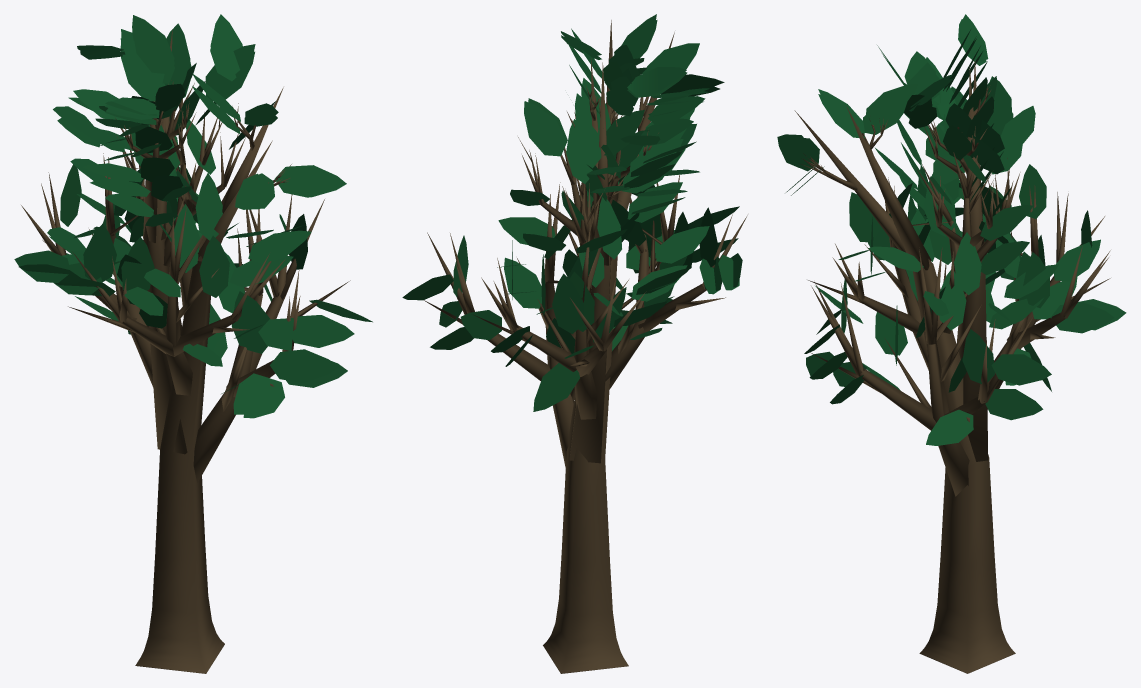
Rendered from tree1.obj.
3 views of the same model, side by side, from view 1: azimuth 30°, elevation 25°; view 2: azimuth 150°, elevation 25°; view 3: azimuth 270°, elevation 25° (orthographic). The views are drawn at different scales.
Parts seen in each view (by area): view 1: default_leaves, default.001_stems; view 2: default_leaves, default.001_stems; view 3: default_leaves, default.001_stems.
Boxes of the visible parts, x1=… form: default_leaves: x1=14, y1=14, x2=372, y2=418; default.001_stems: x1=21, y1=29, x2=350, y2=673; default_leaves: x1=402, y1=14, x2=742, y2=411; default.001_stems: x1=424, y1=20, x2=747, y2=673; default_leaves: x1=777, y1=14, x2=1126, y2=445; default.001_stems: x1=794, y1=60, x2=1110, y2=673.
Bounding box in the file's own units: 56.31 × 105 × 55.01.
